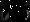person: (24, 7, 30, 22), (5, 9, 10, 20)
